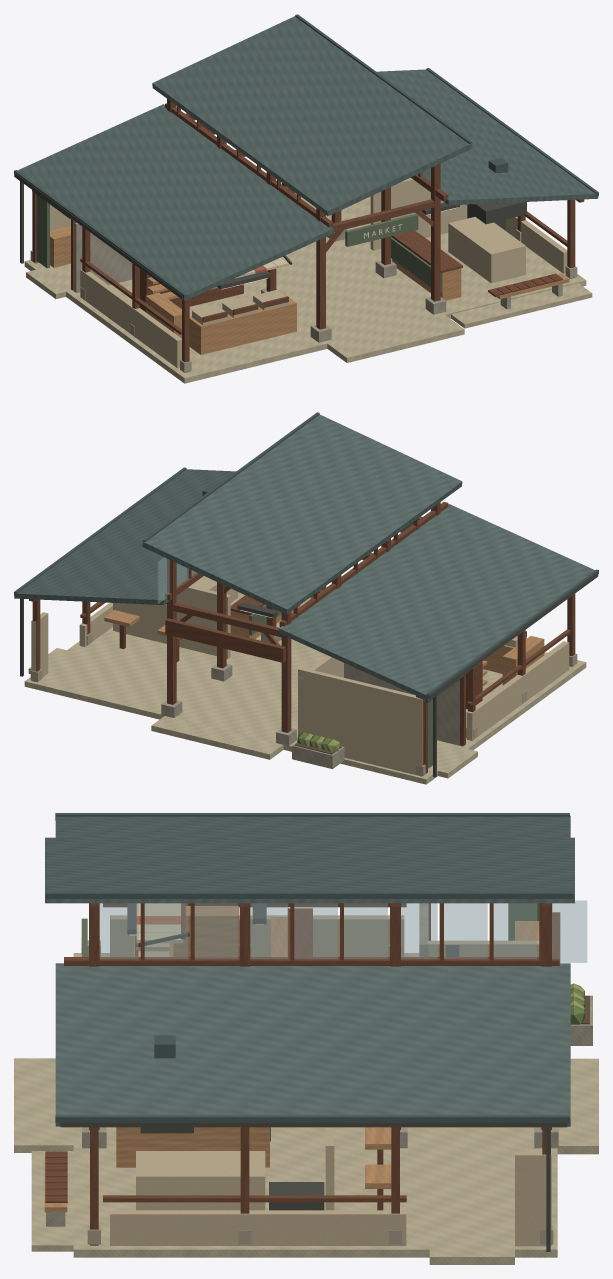
Rendered from west-bridge-market_lod.glb.
3 views of the same model, one above another, from view 1: azimuth 30°, elevation 25°; view 2: azimuth 150°, elevation 25°; view 3: azimuth 270°, elevation 25° (orthographic). The views are drawn at different scales.
Parts seen in each view (by area): view 1: High asymmetrical roof, West lower lean-to bay, Covered market floor, East lower lean-to bay, Cooking work bench, Provisions cooled counter, Low west wing facade, Front public entry tongue, Front waiting wing, Hot-food return wall, Backstock privacy wall, Low east wing facade (+22 smaller); view 2: High asymmetrical roof, West lower lean-to bay, Covered market floor, East lower lean-to bay, Rear west solid wall, Low west wing facade, Hot-food return wall, Rear approach landing, Rear high opening fascia, Backstock privacy wall, Principal post.007, Longitudinal eave beam (+16 smaller); view 3: East lower lean-to bay, High asymmetrical roof, Covered market floor, West lower lean-to bay, Low east wing facade, Cooking work bench, Low west wing facade, Front public entry tongue, Folded zinc edge.002, Longitudinal eave beam.001, Folded zinc edge.001, Market hot-food pickup counter (+36 smaller).
Part boxes in pixels (left/top/right/bottom): High asymmetrical roof: left=152, top=16, right=472, bottom=215; West lower lean-to bay: left=14, top=104, right=333, bottom=300; Covered market floor: left=24, top=196, right=586, bottom=383; East lower lean-to bay: left=376, top=69, right=598, bottom=205; Cooking work bench: left=448, top=216, right=525, bottom=283; Provisions cooled counter: left=189, top=293, right=296, bottom=354; Low west wing facade: left=80, top=269, right=181, bottom=368; Front public entry tongue: left=327, top=315, right=464, bottom=362; Front waiting wing: left=451, top=283, right=592, bottom=328; Hot-food return wall: left=370, top=177, right=467, bottom=250; Backstock privacy wall: left=73, top=222, right=132, bottom=292; Low east wing facade: left=506, top=216, right=567, bottom=273; High asymmetrical roof: left=142, top=414, right=462, bottom=614; West lower lean-to bay: left=279, top=504, right=598, bottom=700; Covered market floor: left=24, top=592, right=586, bottom=784; East lower lean-to bay: left=14, top=469, right=235, bottom=604; Rear west solid wall: left=298, top=667, right=422, bottom=776; Low west wing facade: left=466, top=641, right=569, bottom=740; Hot-food return wall: left=113, top=585, right=230, bottom=658; Rear approach landing: left=151, top=716, right=283, bottom=759; Rear high opening fascia: left=165, top=618, right=285, bottom=662; Backstock privacy wall: left=344, top=663, right=463, bottom=746; Principal post.007: left=167, top=559, right=176, bottom=704; Longitudinal eave beam: left=279, top=502, right=448, bottom=627; East lower lean-to bay: left=55, top=963, right=570, bottom=1126; High asymmetrical roof: left=45, top=837, right=574, bottom=903; Covered market floor: left=73, top=953, right=557, bottom=1257; West lower lean-to bay: left=55, top=815, right=570, bottom=837; Low east wing facade: left=110, top=1210, right=406, bottom=1245; Cooking work bench: left=136, top=1151, right=265, bottom=1210; Low west wing facade: left=110, top=915, right=404, bottom=956; Front public entry tongue: left=14, top=1058, right=73, bottom=1152; Folded zinc edge.002: left=45, top=891, right=573, bottom=898; Longitudinal eave beam.001: left=64, top=957, right=559, bottom=965; Folded zinc edge.001: left=55, top=1115, right=569, bottom=1122; Market hot-food pickup counter: left=116, top=1127, right=269, bottom=1167.
Size of the model in its own units: 14.49 by 5.93 by 11.5.
19 materials, 6 textured.
